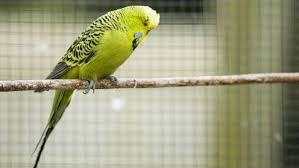budgie: (32, 4, 161, 168)
